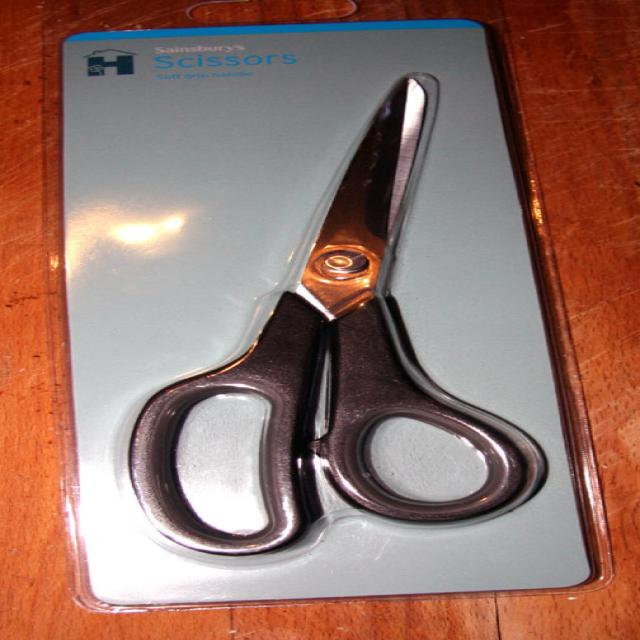scissors: (126, 72, 548, 557)
